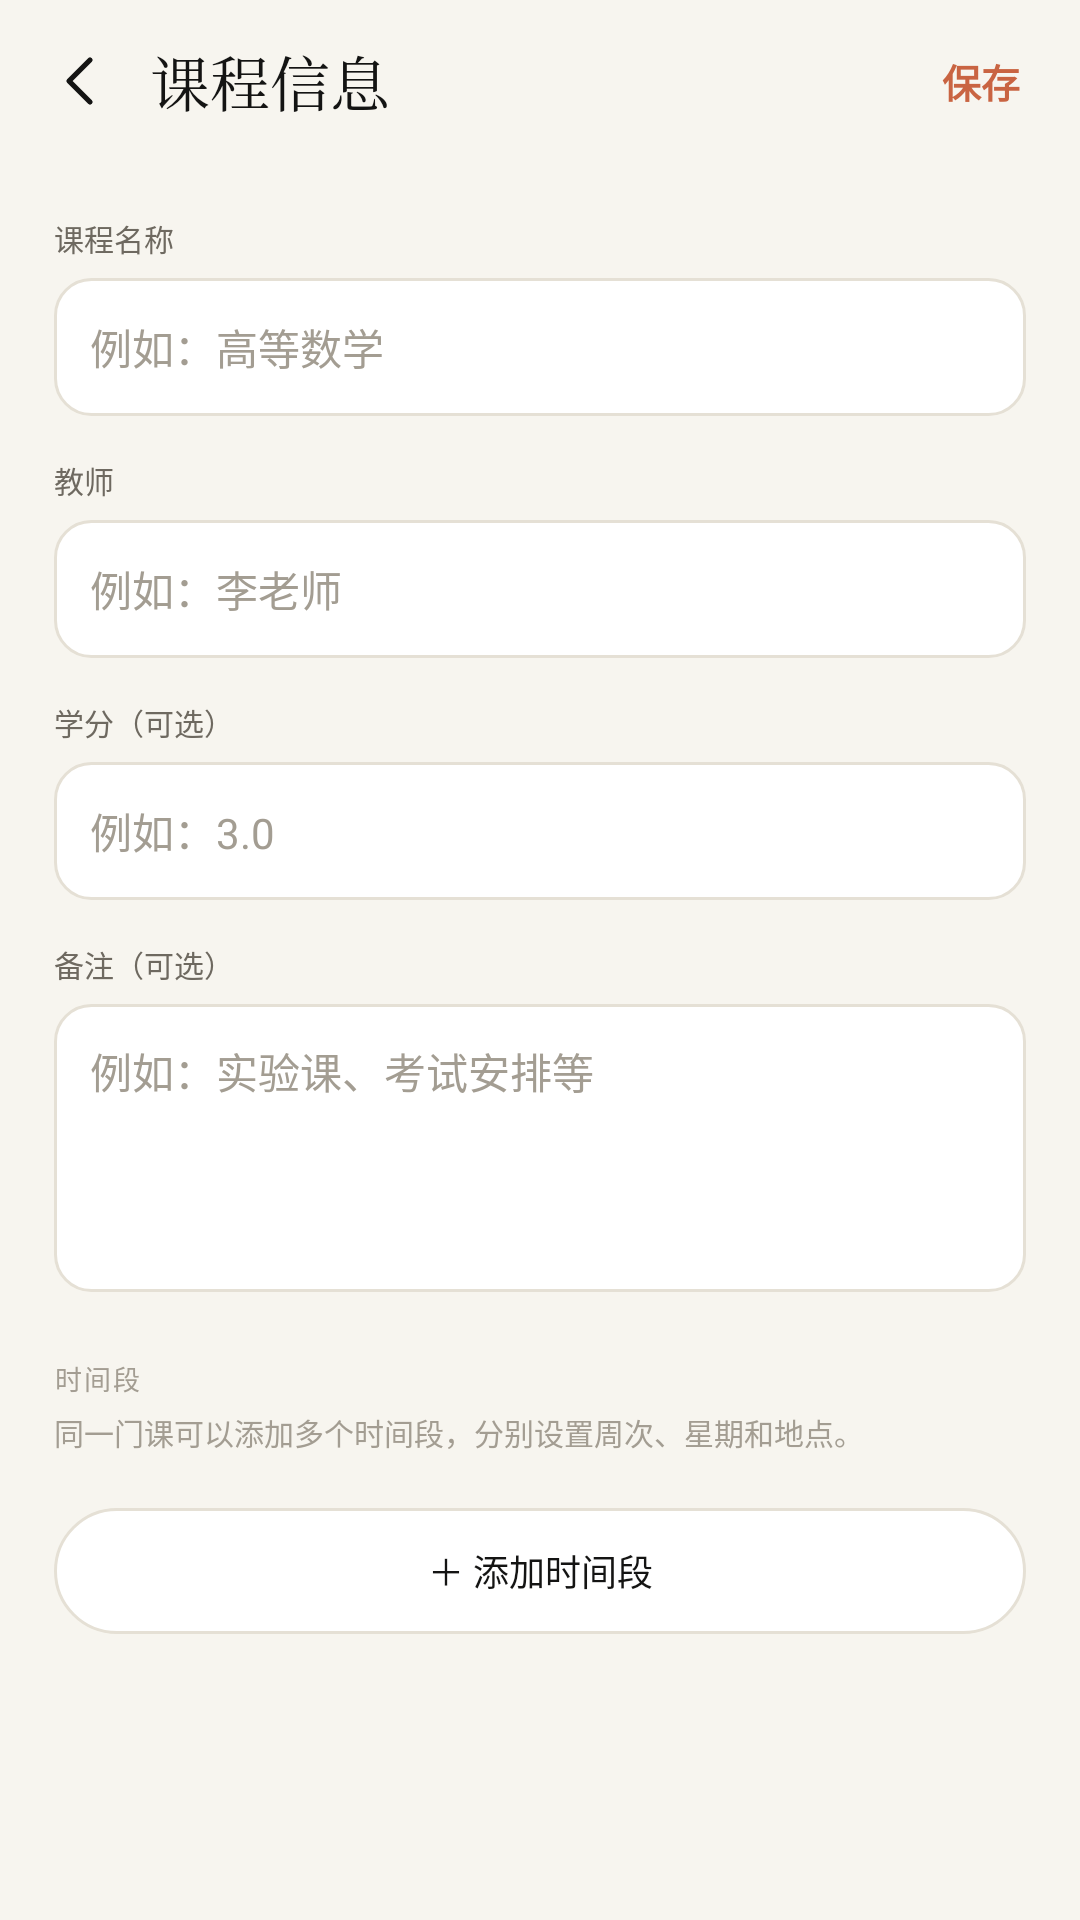

Where icons sit on this 1080*1920 app screen, as (x1, y1, x2, y2):
返回: (66, 57, 93, 105)
